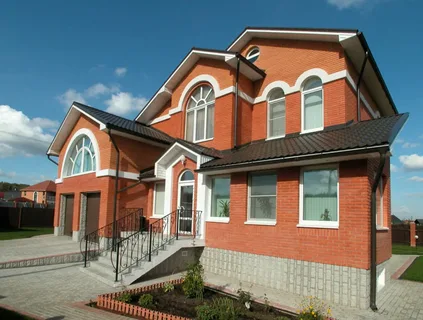private_hause: (64, 49, 393, 271)
